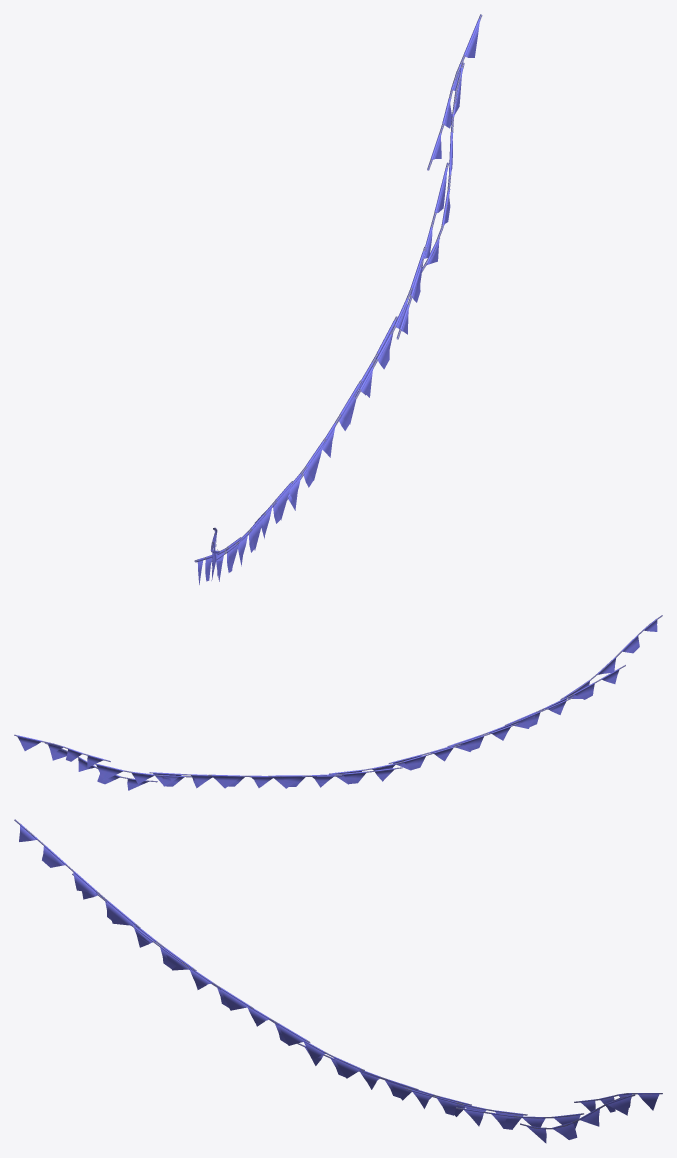
The model's file is SM_rope_flags_01_Splines_3.fbx.
3 views of the same model, one above another, from view 1: azimuth 30°, elevation 25°; view 2: azimuth 150°, elevation 25°; view 3: azimuth 270°, elevation 25° (orthographic). The views are drawn at different scales.
Parts seen in each view (by area): view 1: SM_rope_flags_01_Splines_3_LOD0; view 2: SM_rope_flags_01_Splines_3_LOD0; view 3: SM_rope_flags_01_Splines_3_LOD0.
Boxes of the visible parts, x1,y1,x2,y2 form: SM_rope_flags_01_Splines_3_LOD0: [194, 14, 482, 584]; SM_rope_flags_01_Splines_3_LOD0: [14, 615, 662, 790]; SM_rope_flags_01_Splines_3_LOD0: [14, 819, 662, 1143].
Size of the model in its own units: 1455 by 1658 by 420.
